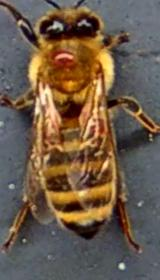varroa_mite: (43, 44, 85, 70)
